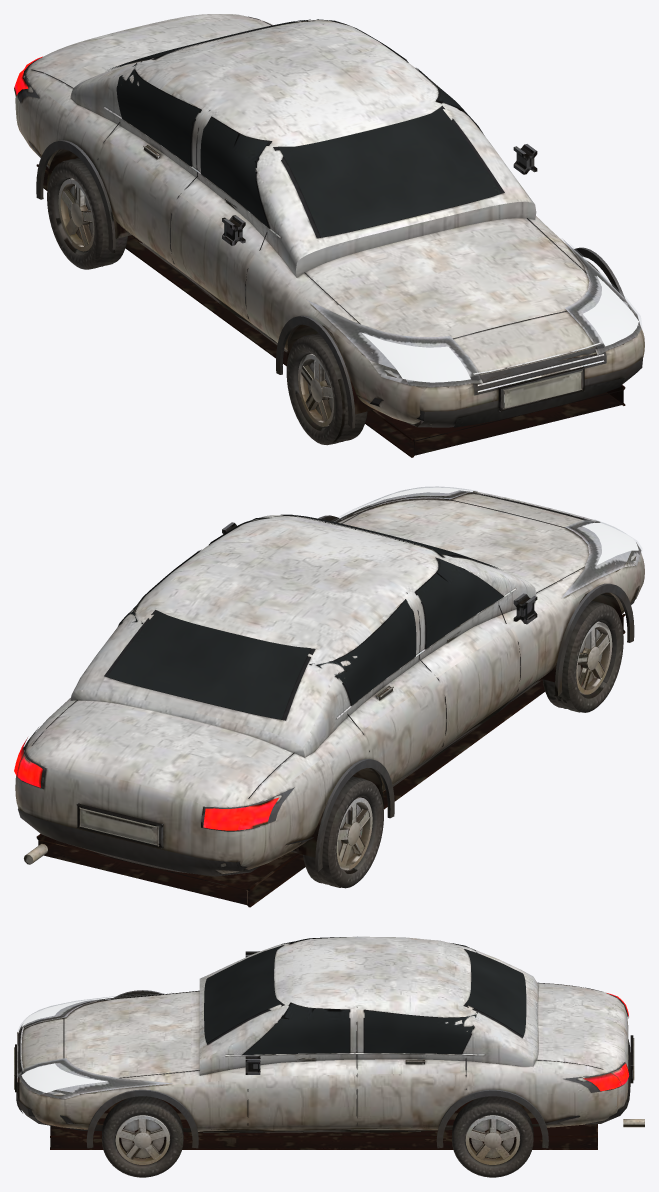
File: traffic-sedan.glb
3 renders of one model, top to bottom at view 1: azimuth 30°, elevation 25°; view 2: azimuth 150°, elevation 25°; view 3: azimuth 270°, elevation 25°, orthographic. The views are drawn at different scales.
Parts seen in each view (by area): view 1: body, wheel-fl, wheel-rl; view 2: body, wheel-rl, wheel-fl; view 3: body, wheel-fr, wheel-rr.
Part boxes in pixels (<box>): body: <box>14,14,644,457</box>; wheel-fl: <box>286,333,367,445</box>; wheel-rl: <box>47,157,127,269</box>; body: <box>14,486,644,907</box>; wheel-rl: <box>303,776,383,888</box>; wheel-fl: <box>542,601,623,712</box>; body: <box>14,936,644,1149</box>; wheel-fr: <box>102,1096,183,1177</box>; wheel-rr: <box>452,1096,533,1177</box>.
Bounding box in the file's own units: 2.03 × 1.43 × 4.98.
16 materials, 14 textured.
